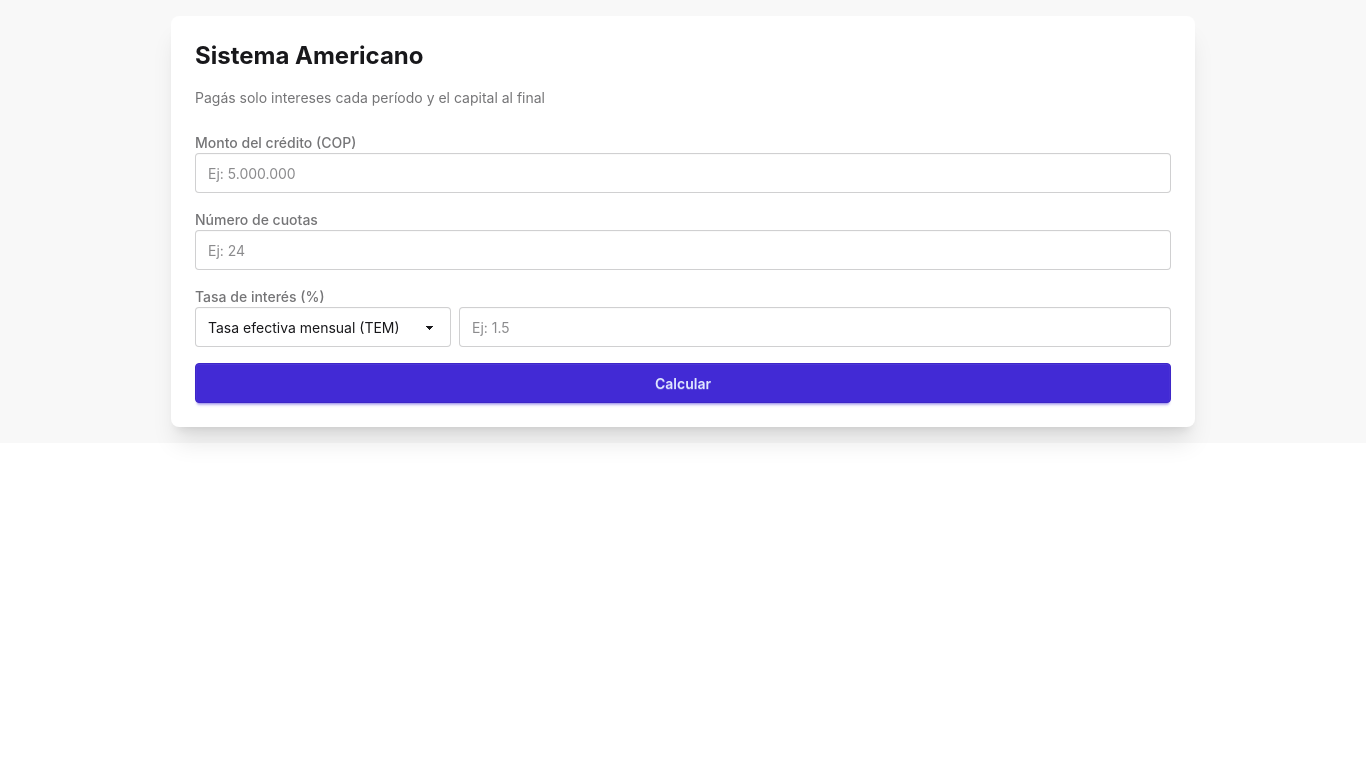
Test: AmericanCreditCalculator › rate type toggle › clears results when the rate type changes
In the field with placeholder "Ej: 5.000.000": [683, 173] box [195,153,1171,193], type "1200000"
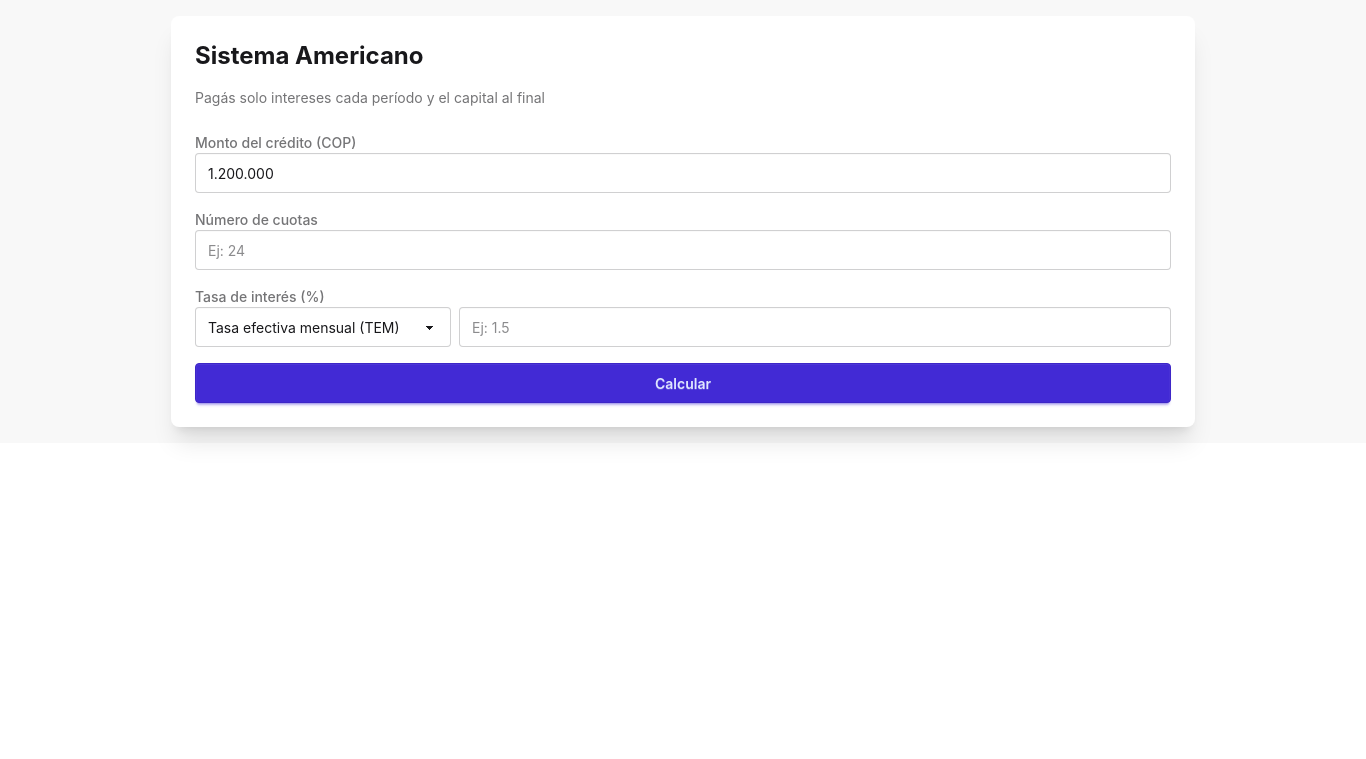
In the number field with placeholder "Ej: 24": [683, 250] box [195,230,1171,270], type "12"
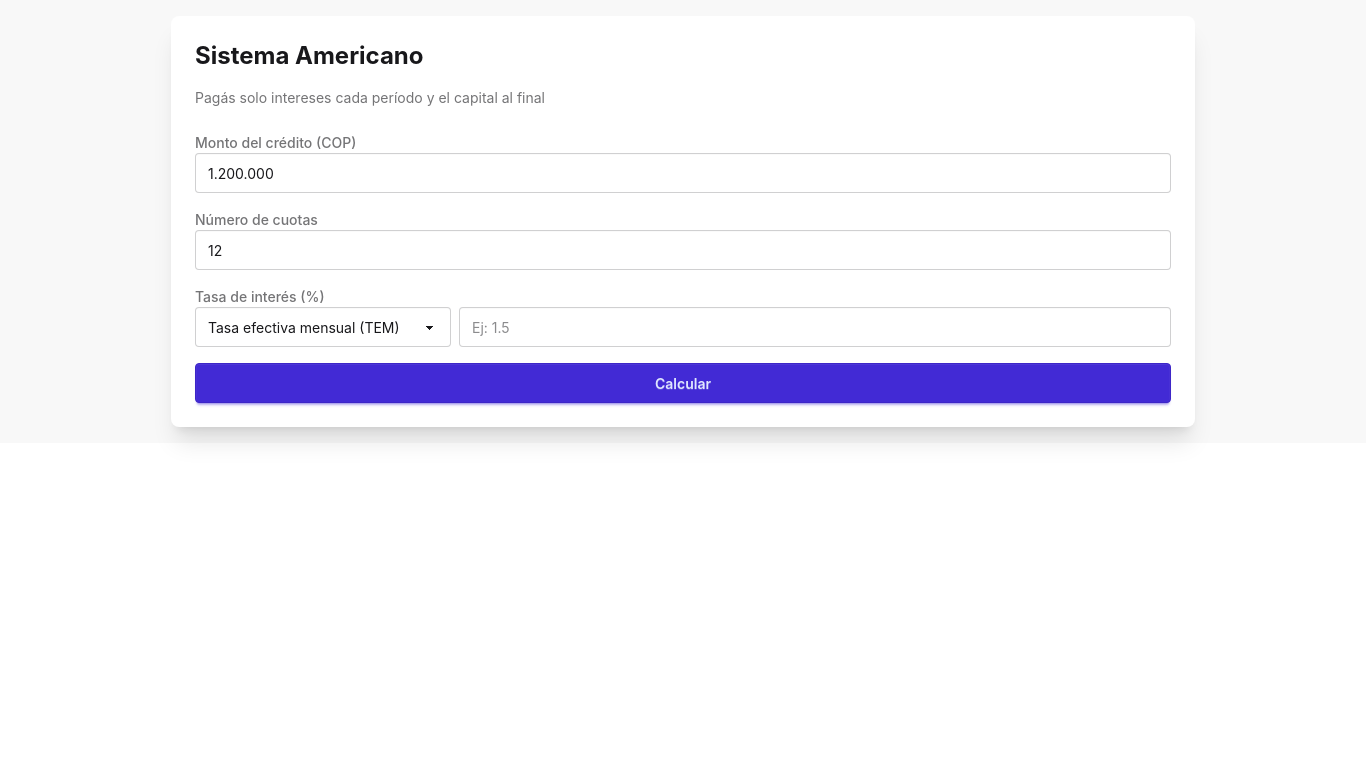
In the number field with test id "rate-input": [815, 327] box [459,307,1171,347], type "1.5"
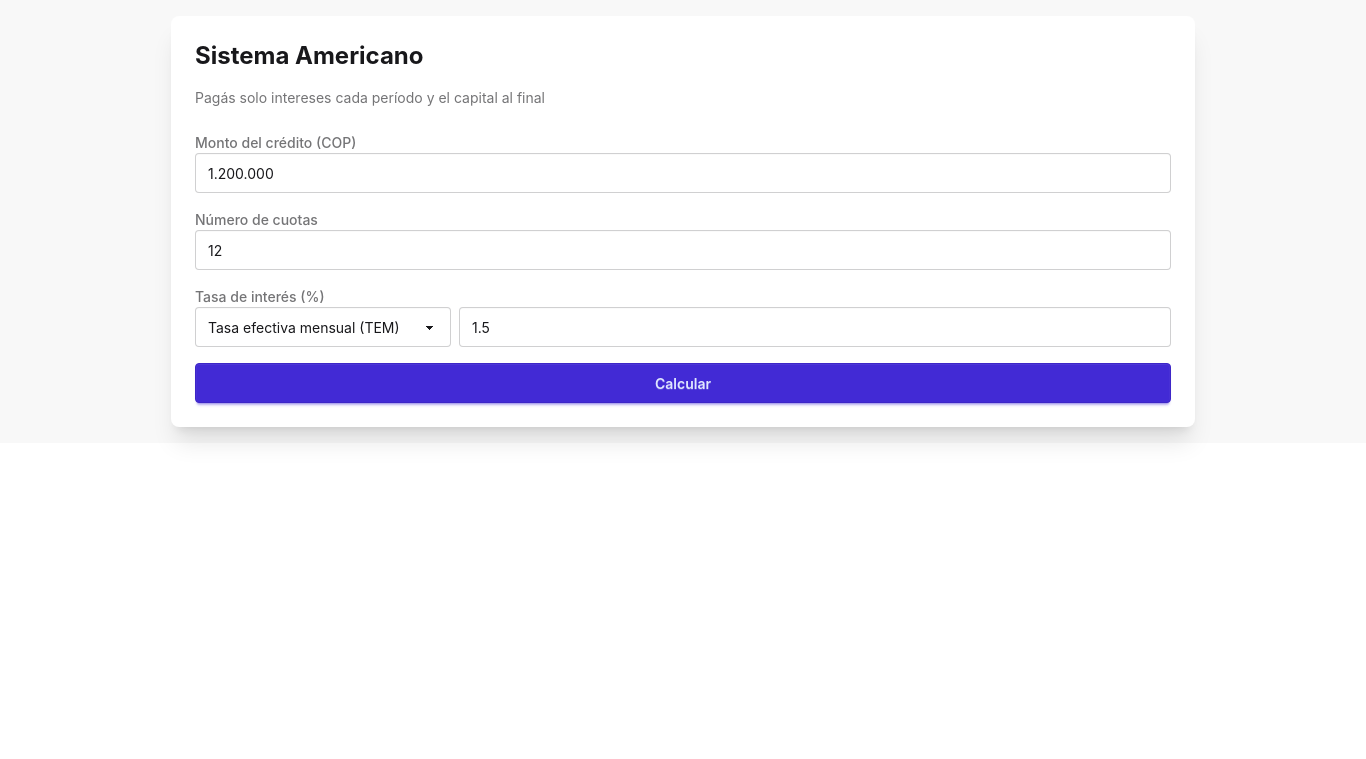
Click the button with test id "calculate-btn": [683, 383] box [195,363,1171,403]
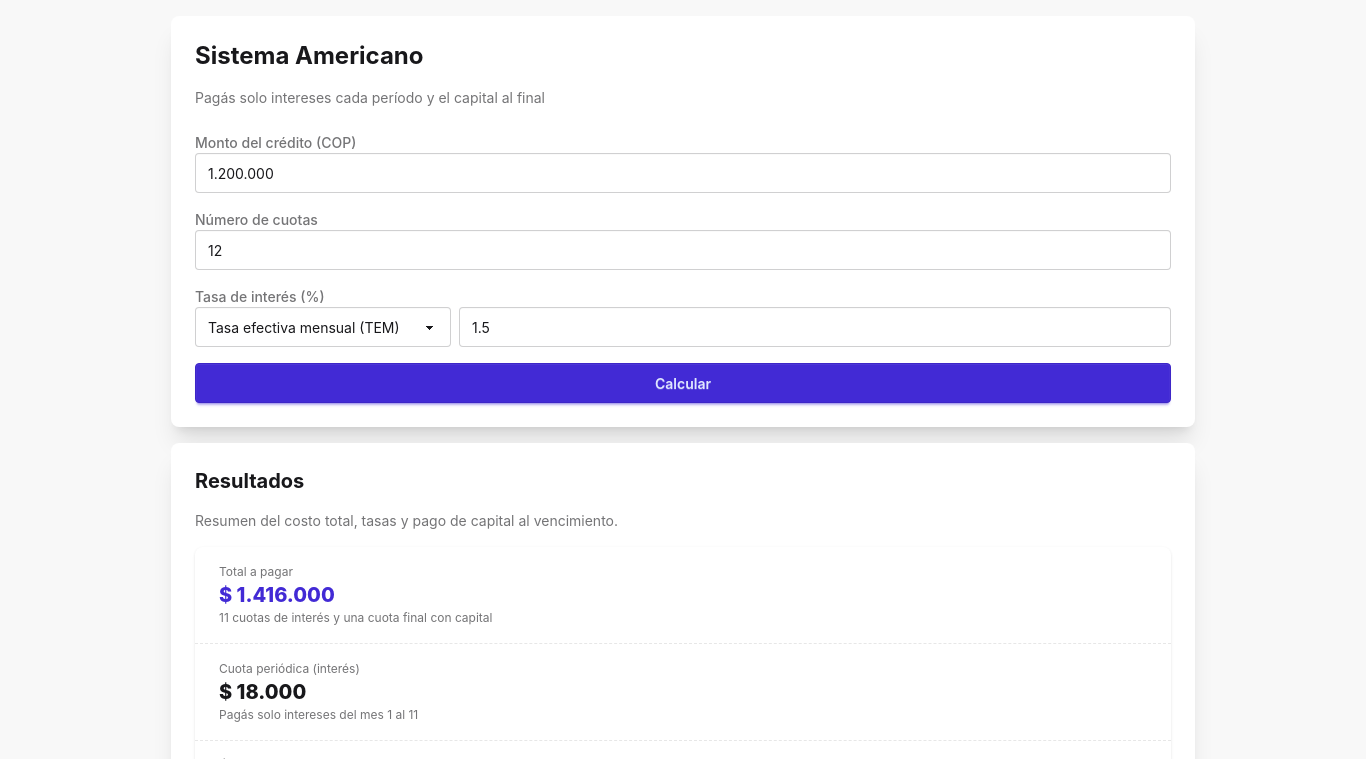
Check: the text "Resultados" is shown, box [195,469,304,493]
Select "Tasa efectiva anual (TEA)" in the dropdown with test id "rate-type-select": [323, 327] box [195,307,451,347]
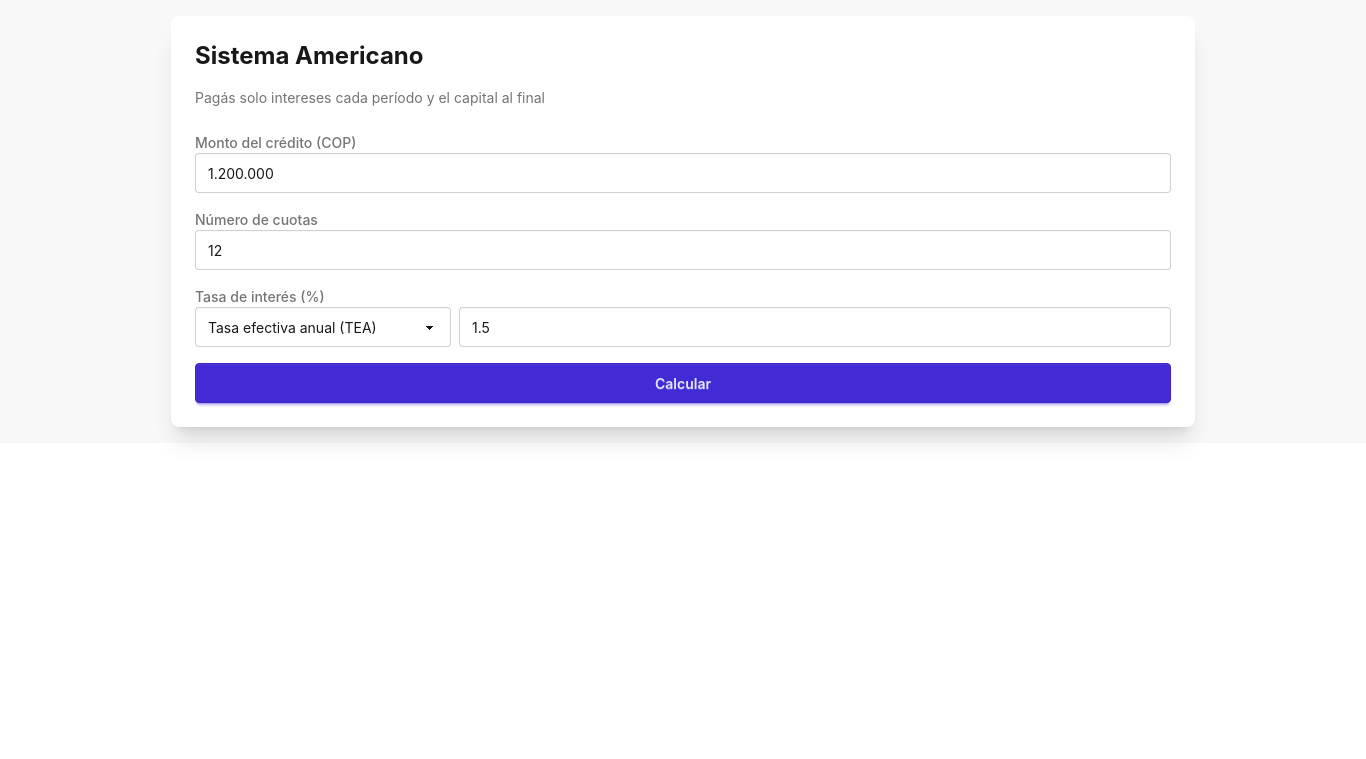
Check: the text "Resultados" is gone
